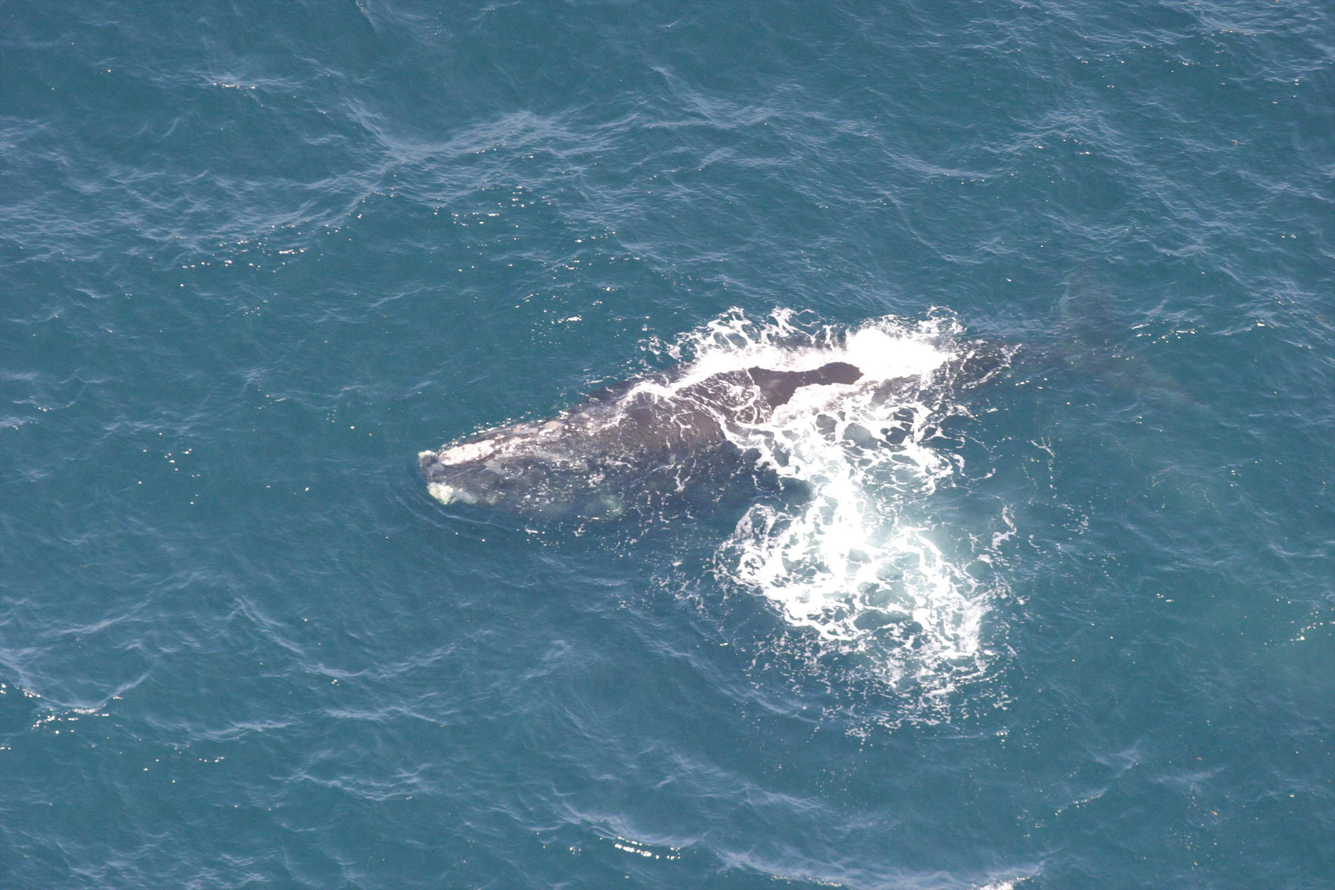whale: (408, 228, 1216, 546)
